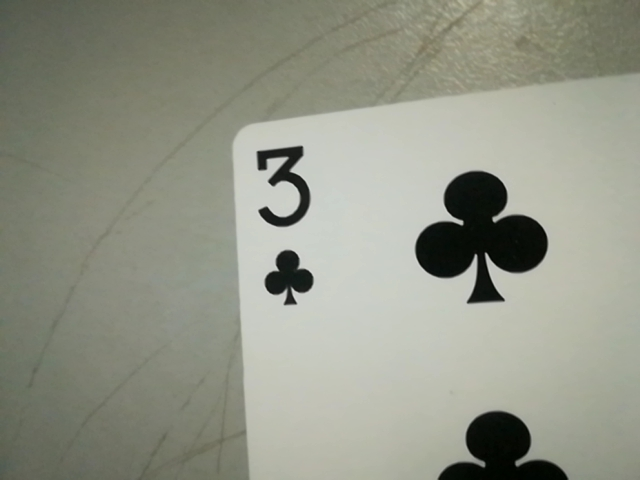mh 3: (241, 132, 329, 311)
